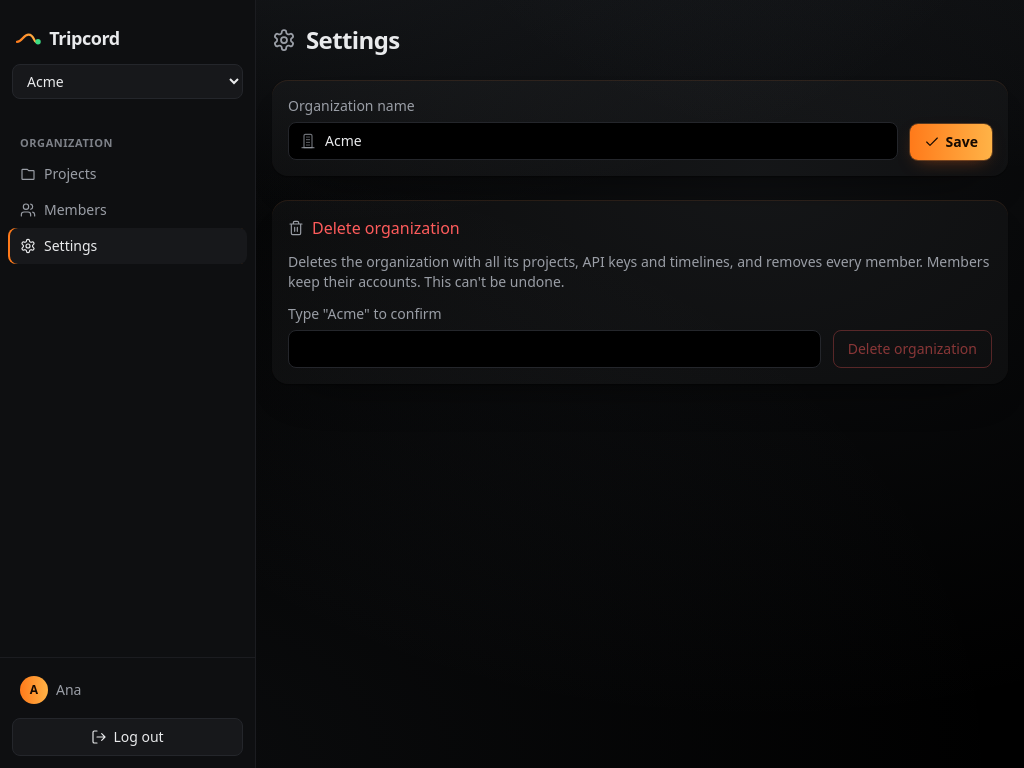
org settings › lets an owner rename the org
Replace the text in the field labelled "Organization name" with "Acme Inc": (593, 141) left=288, top=122, right=898, bottom=160
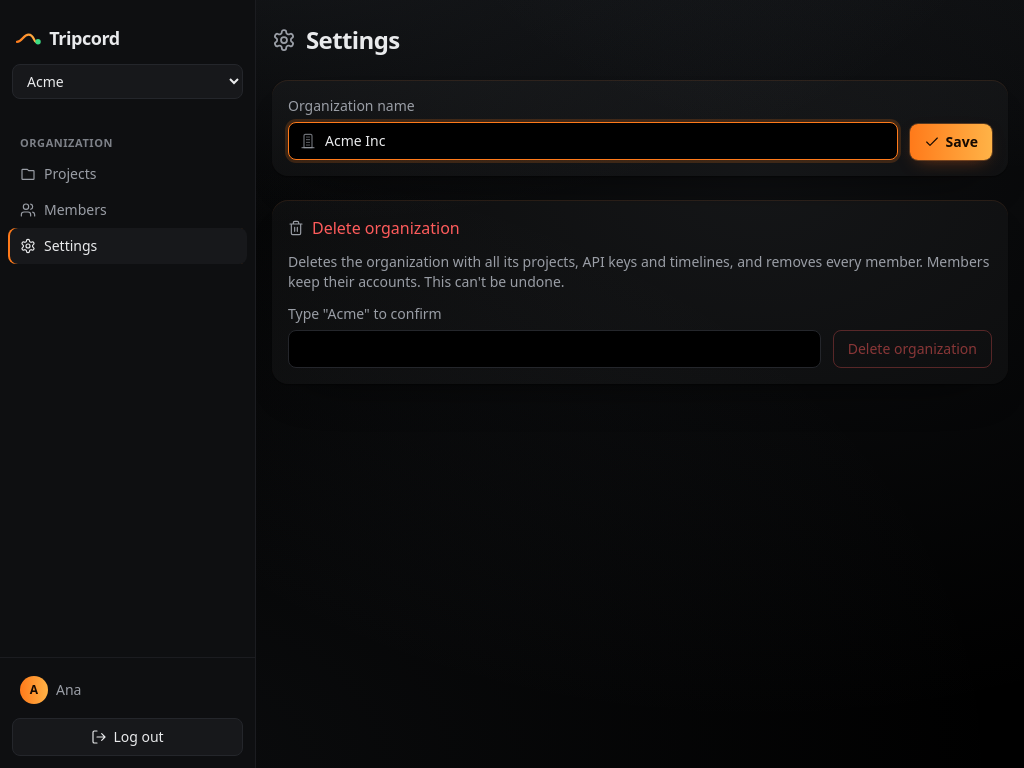
Click the button "Save": (951, 142) left=910, top=124, right=992, bottom=160
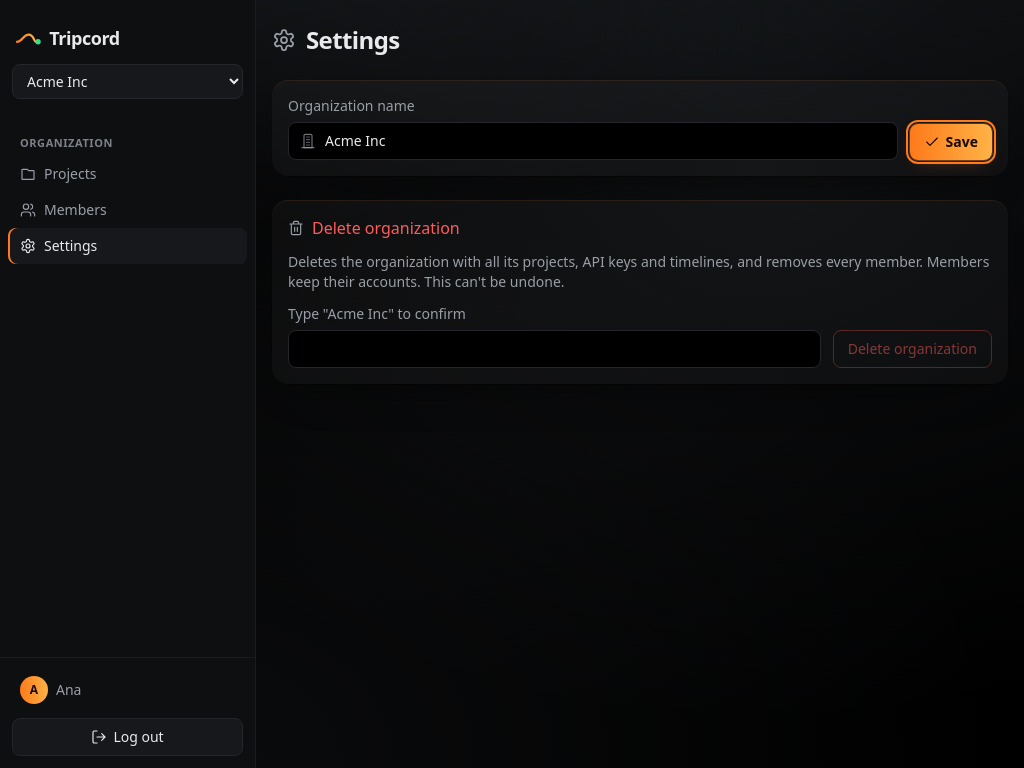
expect the dropdown named "Organization" shows "Acme Inc": met, box left=12, top=64, right=243, bottom=99
